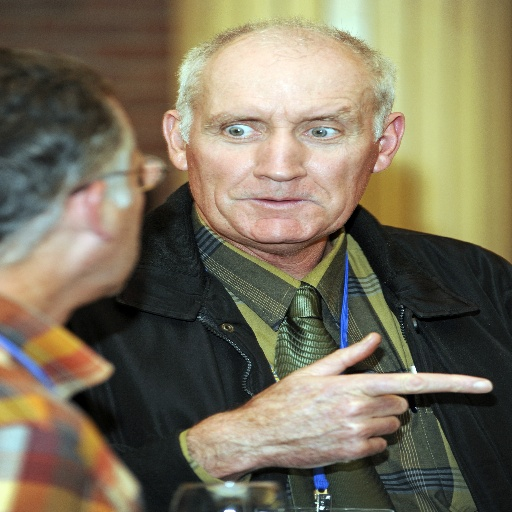hand: (187, 342, 496, 480)
